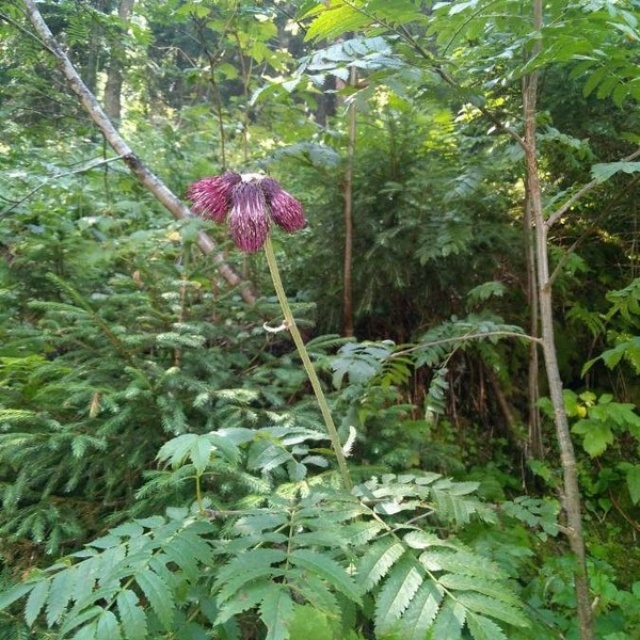obstacle: (37, 415, 516, 636), (223, 16, 612, 225), (175, 159, 311, 315)
